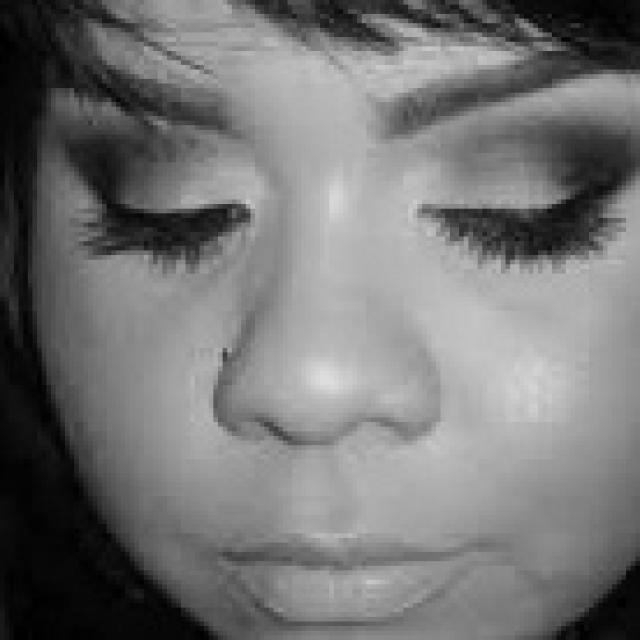real: (40, 9, 626, 636), (89, 119, 612, 265)
